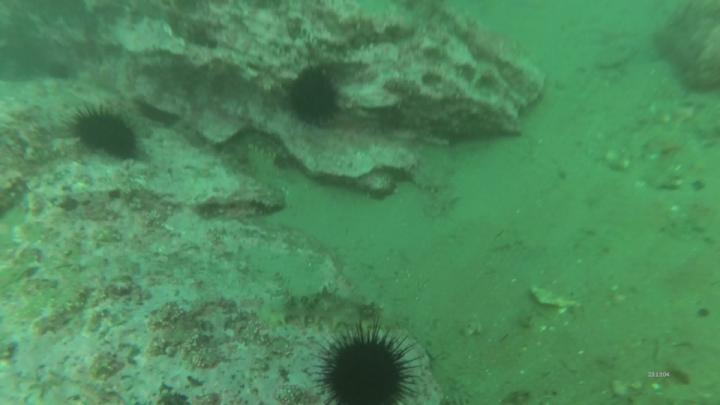echinus: (310, 310, 430, 405), (64, 99, 147, 167), (290, 63, 347, 128)
holothurian: (257, 284, 410, 342)
